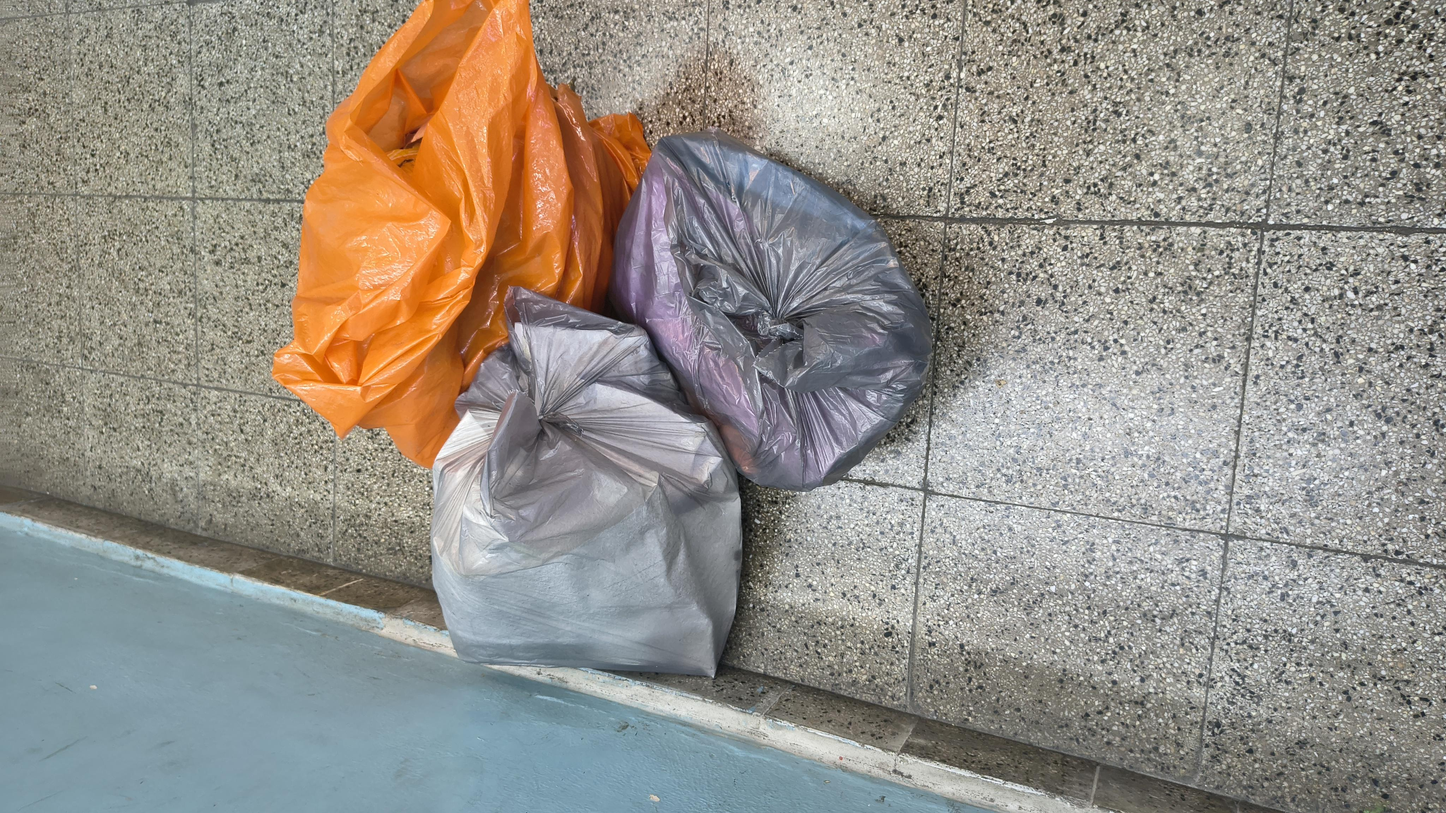Garbage: (590, 153, 1446, 373), (188, 236, 941, 413), (596, 343, 1230, 550)
